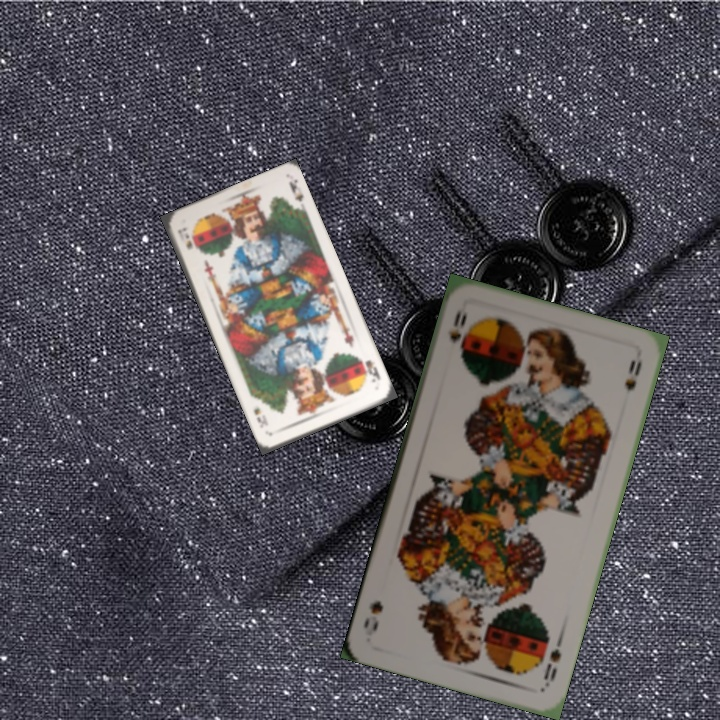SK: (355, 352, 383, 385), (174, 223, 195, 253)
SO: (539, 632, 566, 690), (443, 303, 470, 346)
